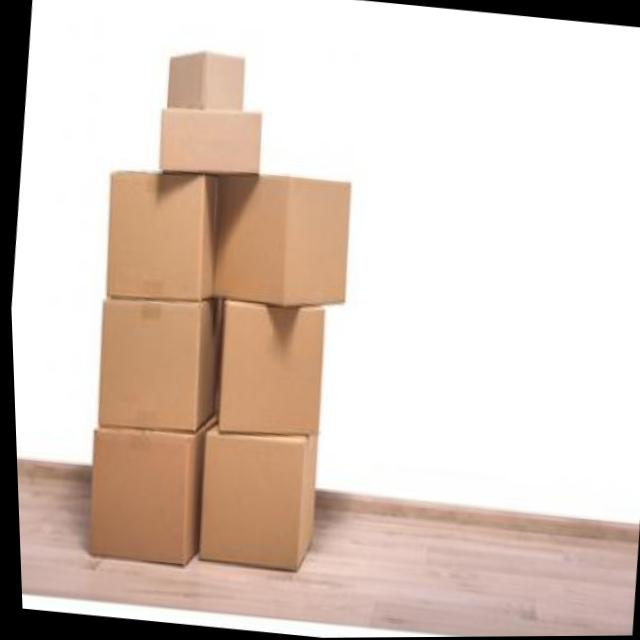box: (179, 416, 337, 587), (200, 161, 368, 319), (67, 412, 211, 579), (78, 286, 224, 433), (90, 155, 228, 309), (199, 290, 334, 446), (143, 93, 273, 184), (159, 33, 252, 128)
